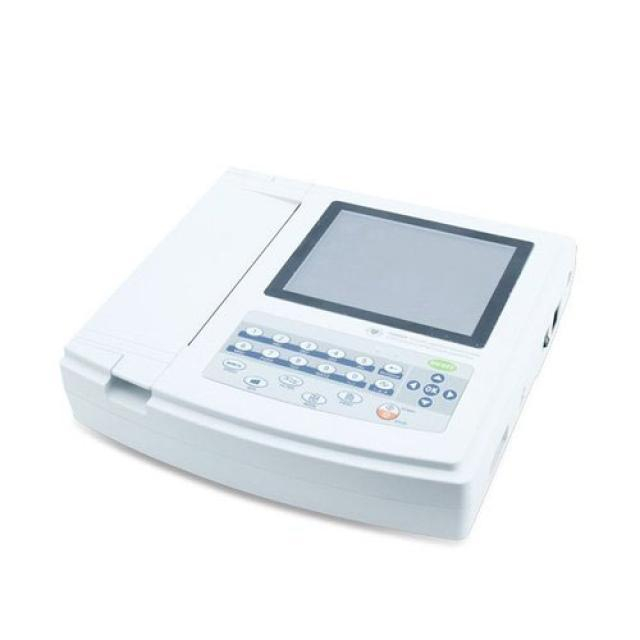Monitor: (59, 164, 578, 542)
